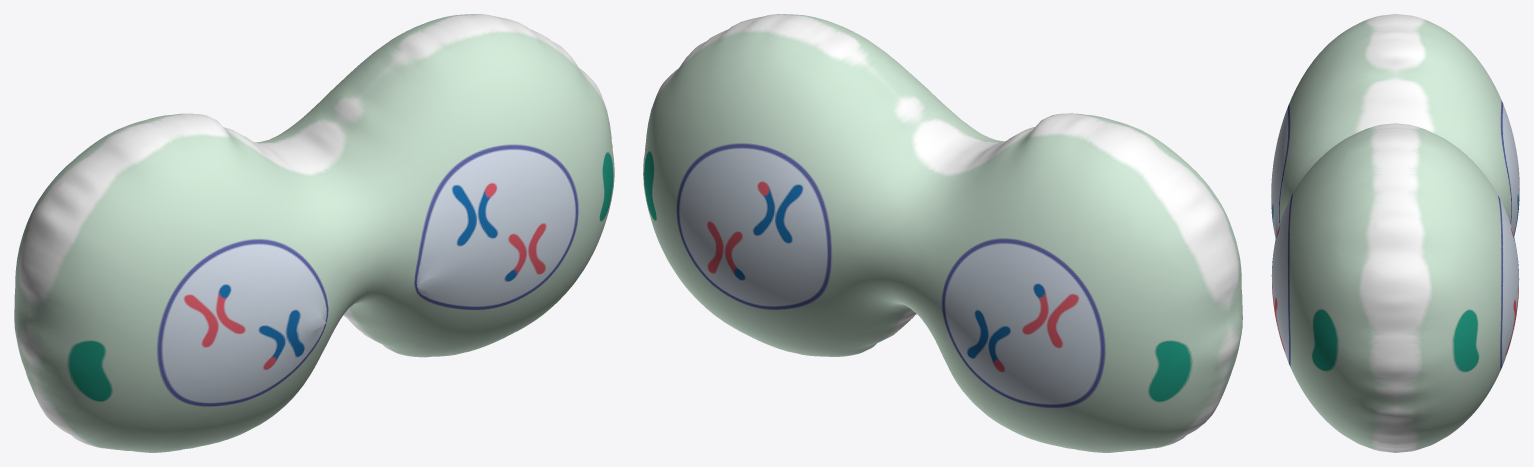
File: meiosis.glb
The picture shows the model from 3 angles, left to right: view 1: azimuth 30°, elevation 25°; view 2: azimuth 150°, elevation 25°; view 3: azimuth 270°, elevation 25°; orthographic projection. The views are drawn at different scales.
Visible parts, largest first — view 1: Object_4; view 2: Object_4; view 3: Object_4.
Boxes of the visible parts, left/top/right/bottom form: Object_4: left=14, top=14, right=614, bottom=452; Object_4: left=643, top=14, right=1242, bottom=452; Object_4: left=1271, top=14, right=1519, bottom=452.
Size of the model in its own units: 9.34 by 5.39 by 3.63.
1 material, 1 textured.
